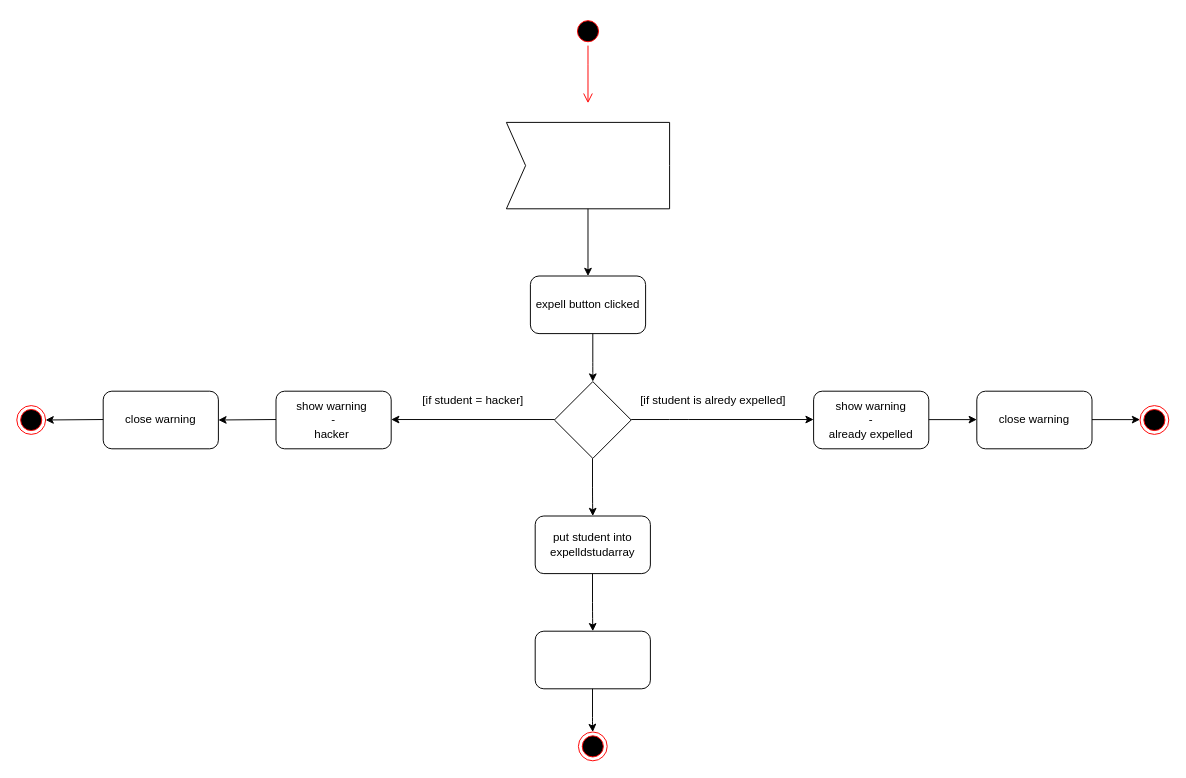
The diagram is 1186 pixels wide and 778 high, and some of its shapes have lost their labels. Here are the shapes that lost their labels. From the top down, the box of each, then its label:
(505, 121, 670, 209): wait for click on expell button
(534, 630, 650, 689): show student is expelled
